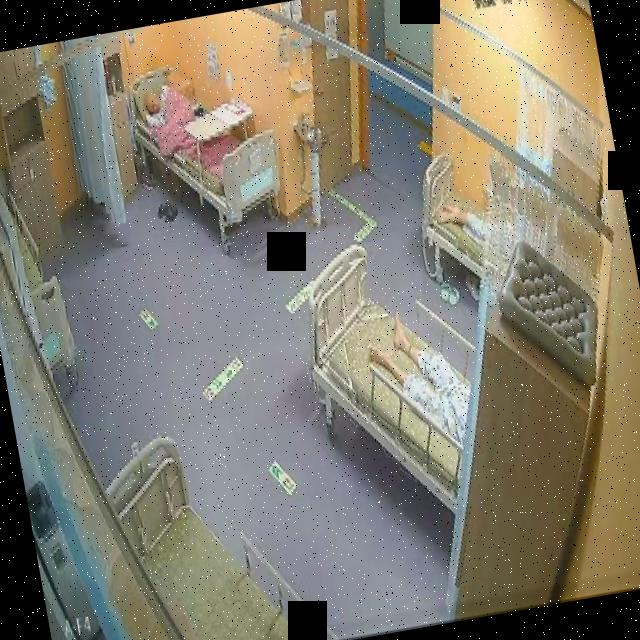bed: (293, 230, 492, 526), (97, 408, 339, 640), (124, 52, 287, 236), (410, 148, 496, 286)
lie: (364, 298, 482, 456), (136, 68, 232, 166)
patient: (364, 299, 480, 456), (138, 77, 180, 133)
